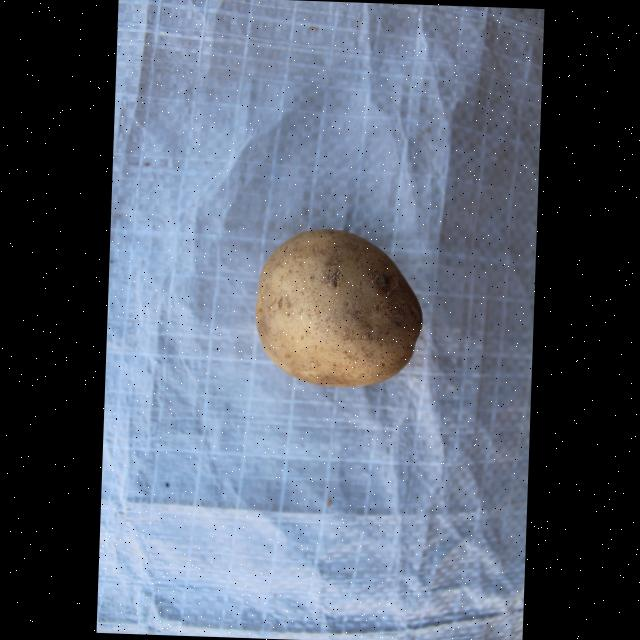Diseased-fungal potato: (253, 226, 426, 388)
